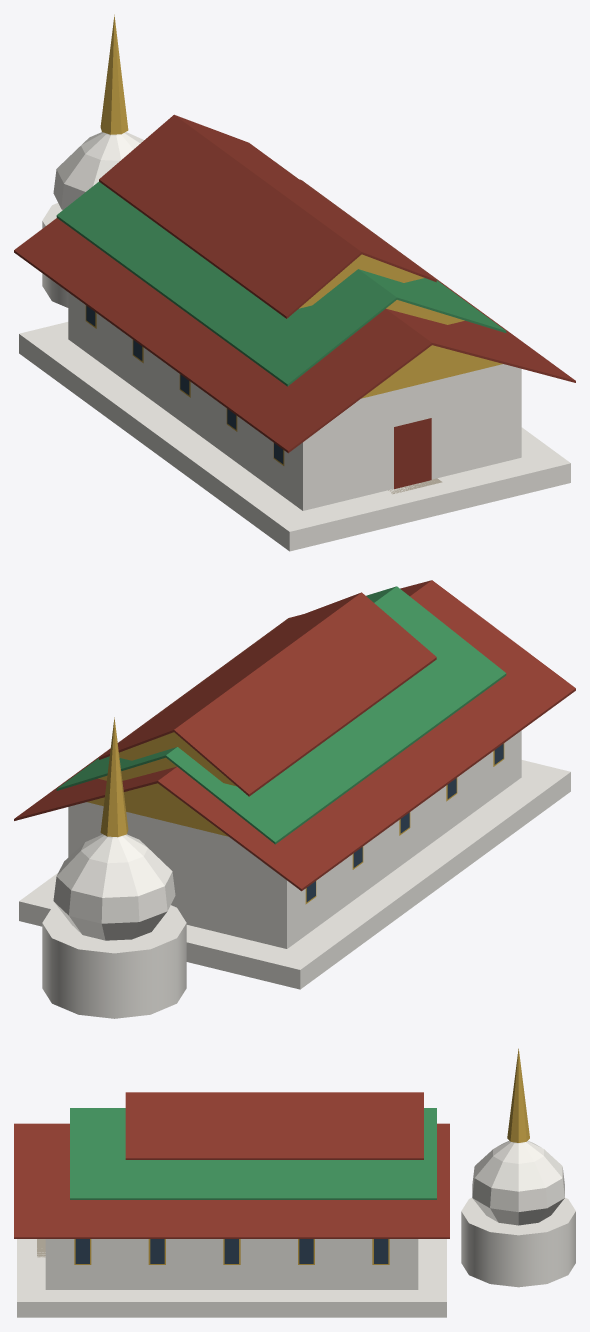
The model's file is wat_thai.glb.
The picture shows the model from 3 angles, top to bottom: view 1: azimuth 30°, elevation 25°; view 2: azimuth 150°, elevation 25°; view 3: azimuth 270°, elevation 25°; orthographic projection. The views are drawn at different scales.
Visible parts, largest first — view 1: wat_thai; view 2: wat_thai; view 3: wat_thai.
Boxes of the visible parts, left/top/right/bottom form: wat_thai: left=14, top=14, right=575, bottom=551; wat_thai: left=14, top=580, right=575, bottom=1018; wat_thai: left=14, top=1048, right=575, bottom=1317.
Bounding box in the file's own units: 18.4 × 16.6 × 39.2.
Materials: 1 (1 with a texture image).
